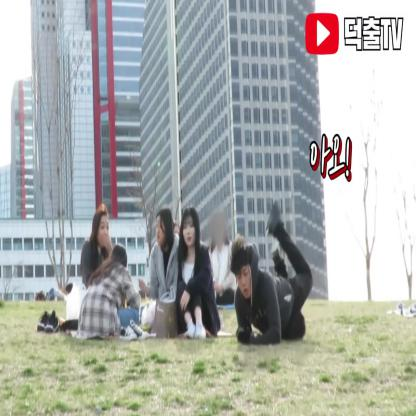Fall_Down: (228, 198, 316, 354)
